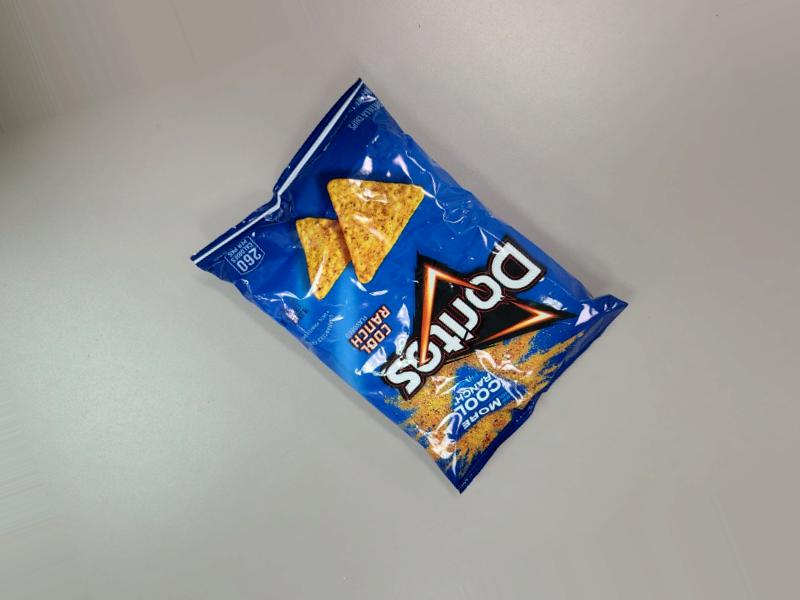doritos: (245, 70, 575, 474)
